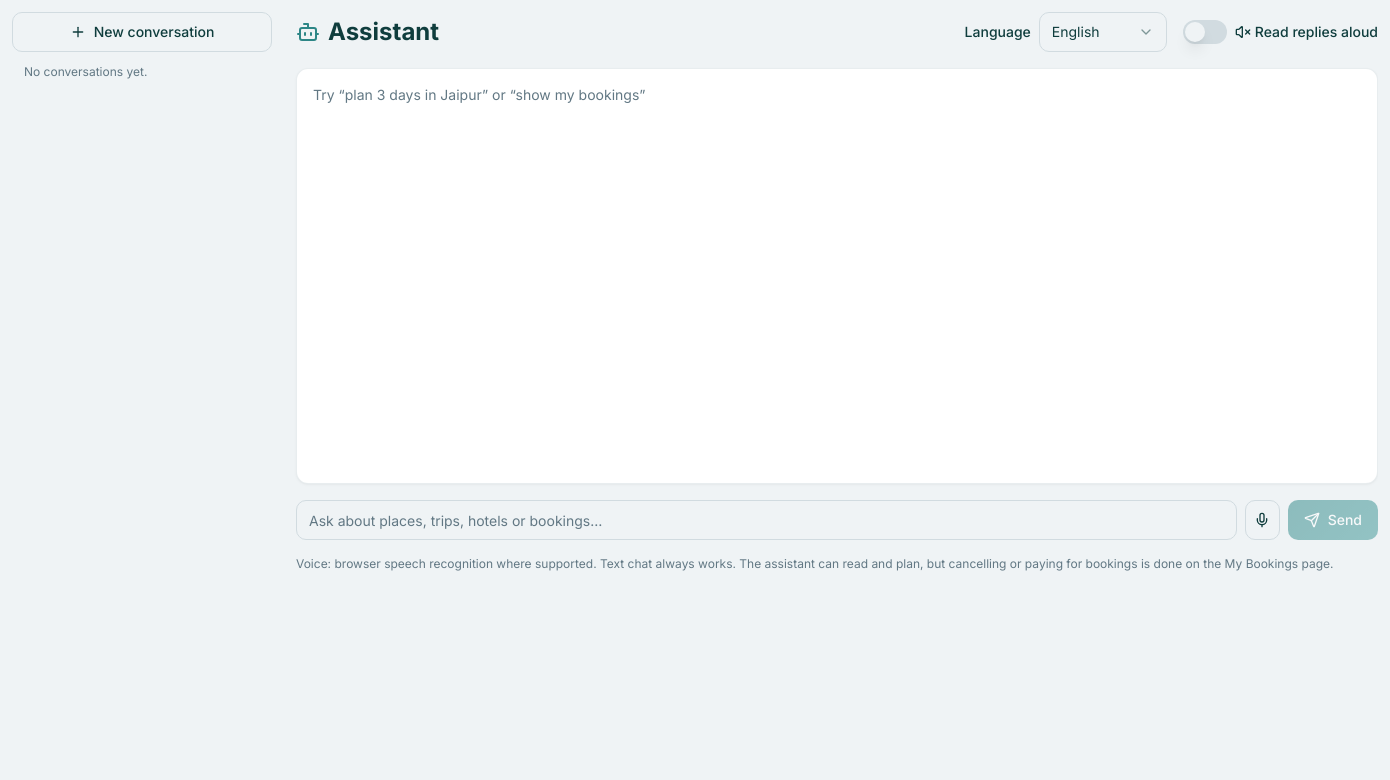
Test: Assistant › offers Yes/No when confirmation is needed and sends the answer
The width and height of the screenshot is (1390, 780).
Type "remove the fort" into the field named "Message". click: [766, 520]
box: x1=296 y1=500 x2=1237 y2=540
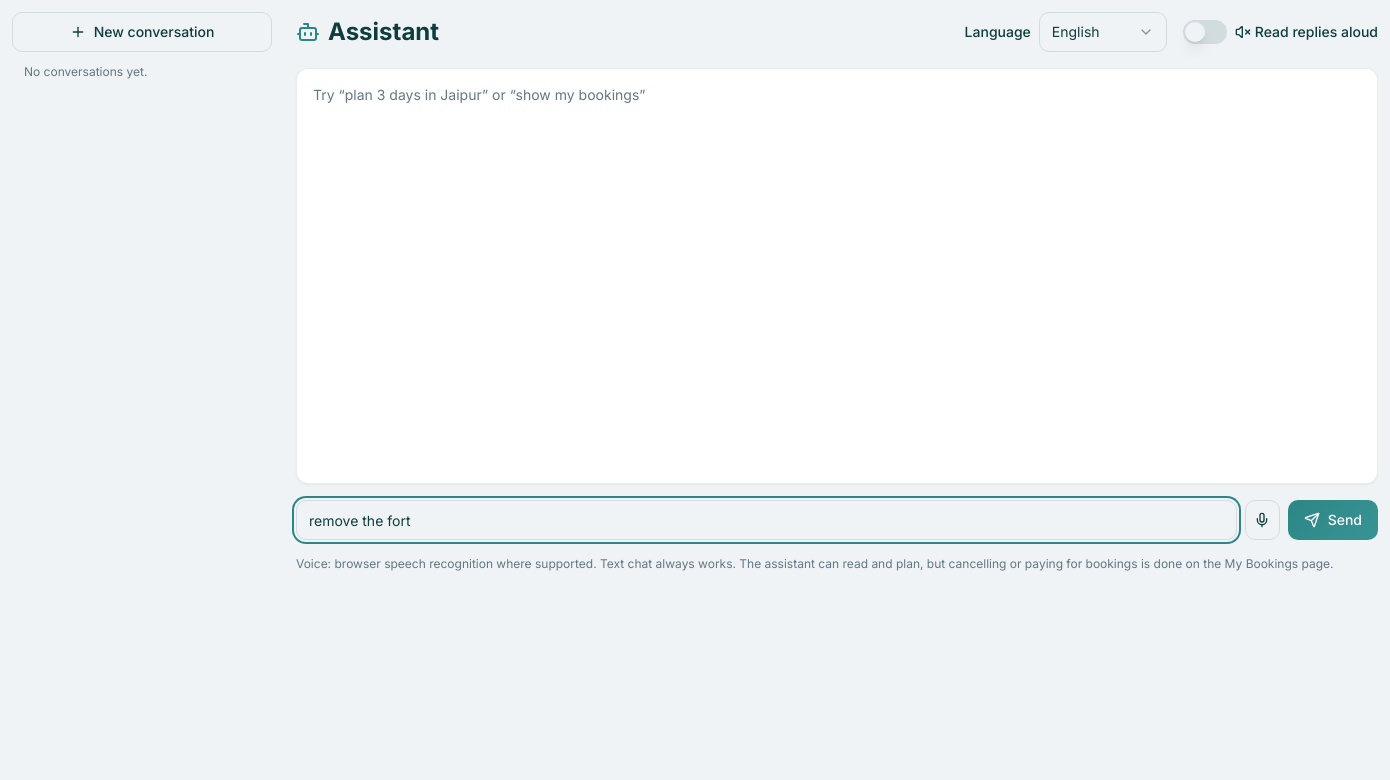
Click the button "Send". click: [1333, 520]
box: x1=1288 y1=500 x2=1378 y2=540
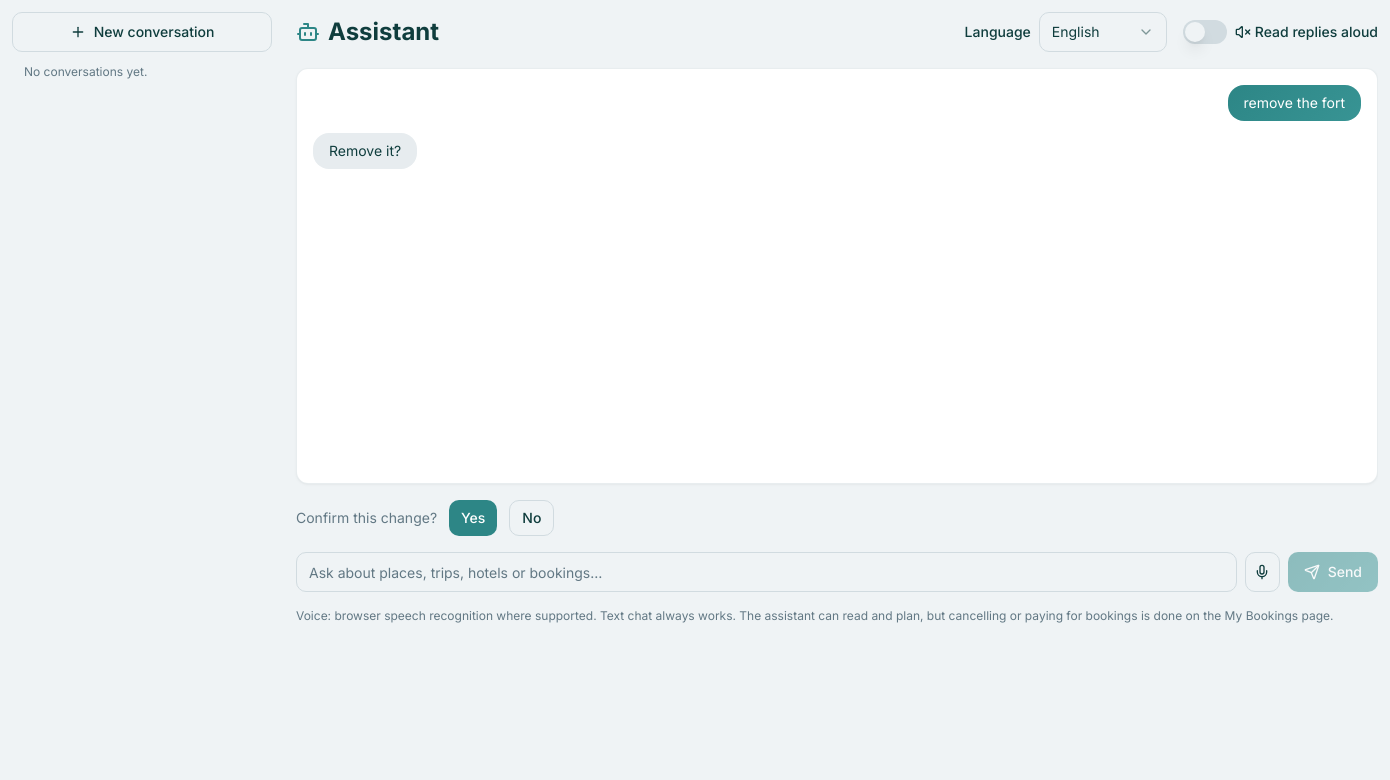
Click the button "Yes". click: [473, 518]
box: x1=449 y1=500 x2=497 y2=536
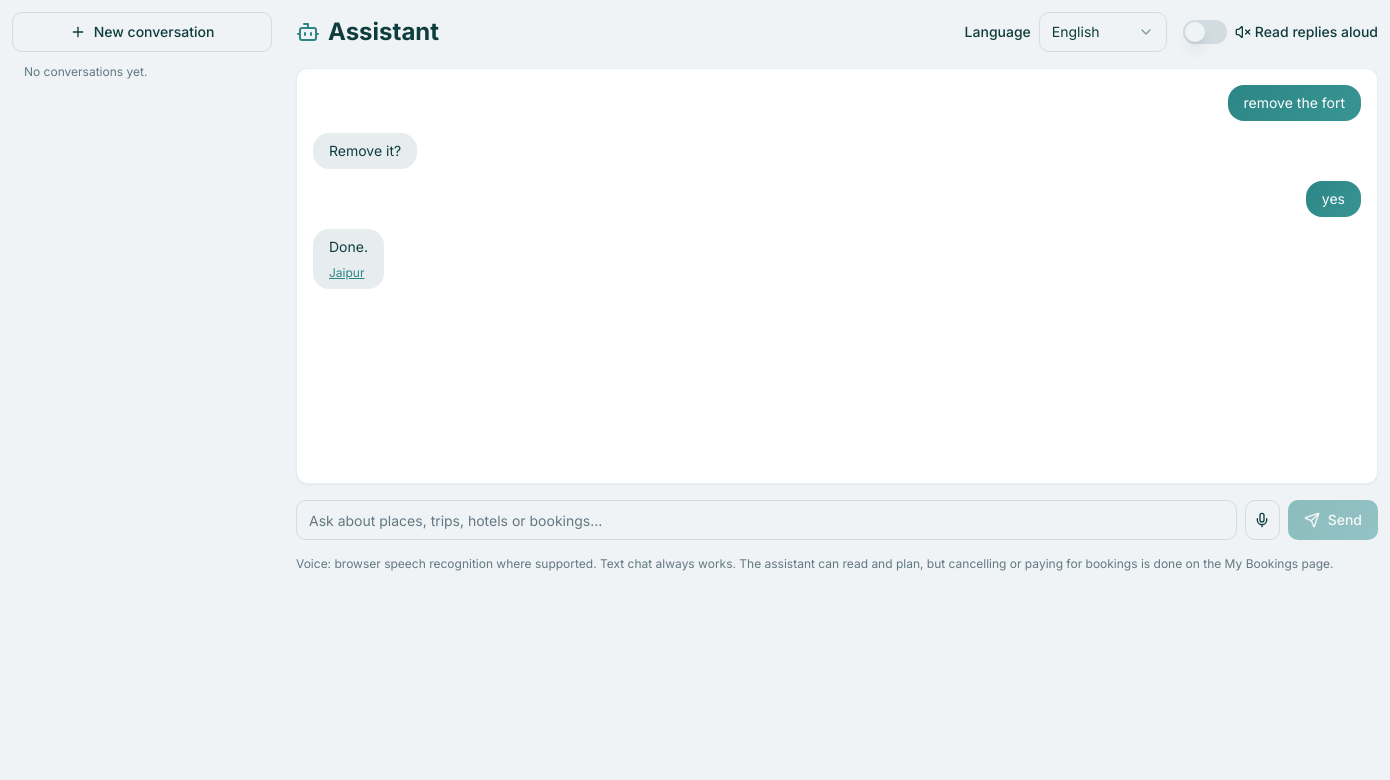
Result: the text "Done." is shown at x1=329 y1=238 x2=368 y2=255
